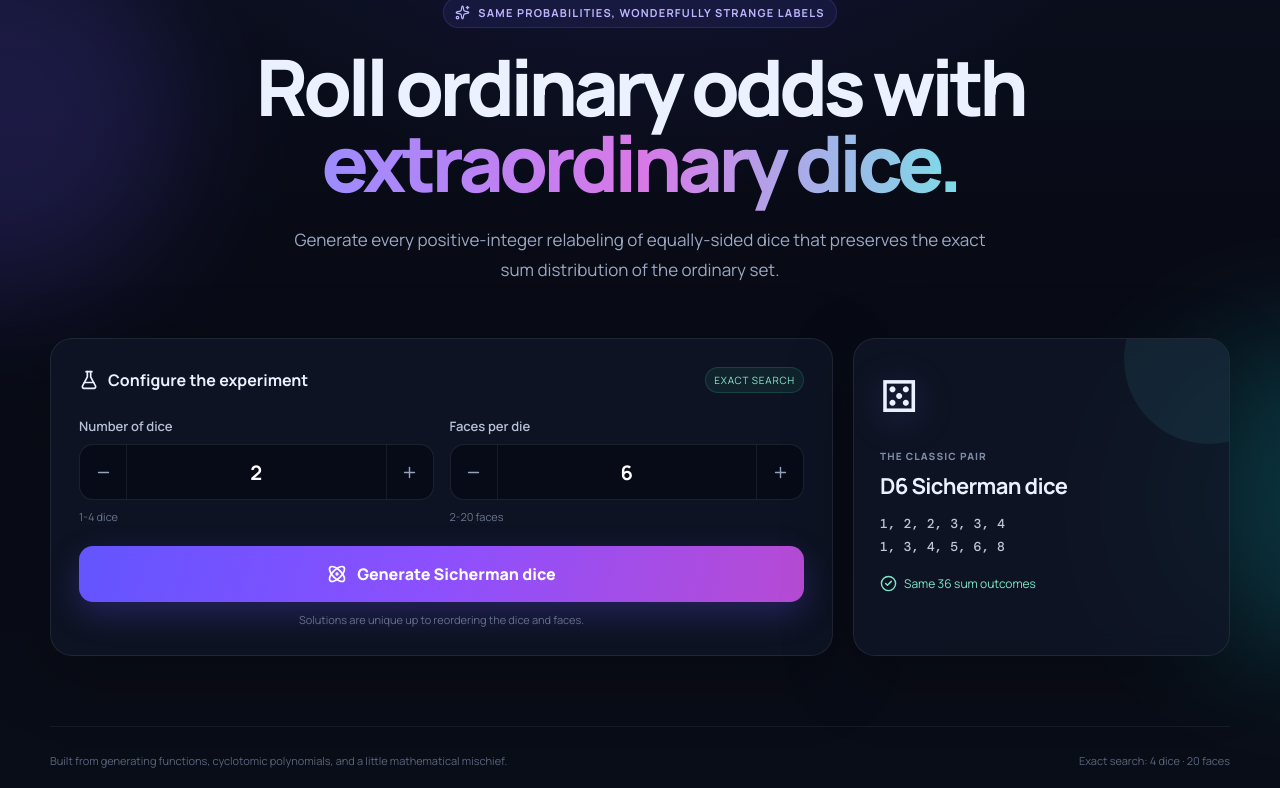
Test: App › includes ordinary dice when the toggle is enabled
The width and height of the screenshot is (1280, 788).
(page scrolled)
Submit the form, box [50, 338, 833, 656]
(page scrolled)
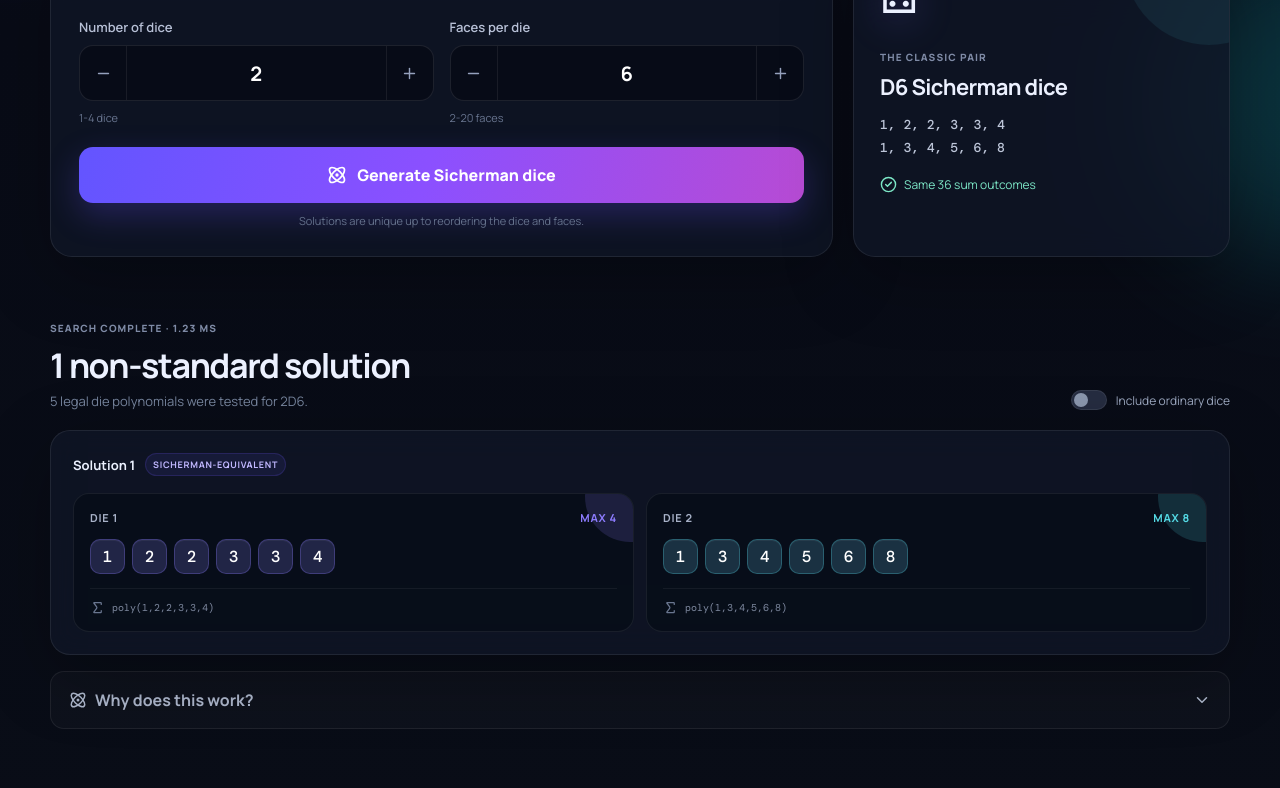
Now the heading "1 non-standard solution" is shown, box [50, 342, 410, 388]
Click the checkbox.
click(1150, 400)  # box [1071, 390, 1230, 410]
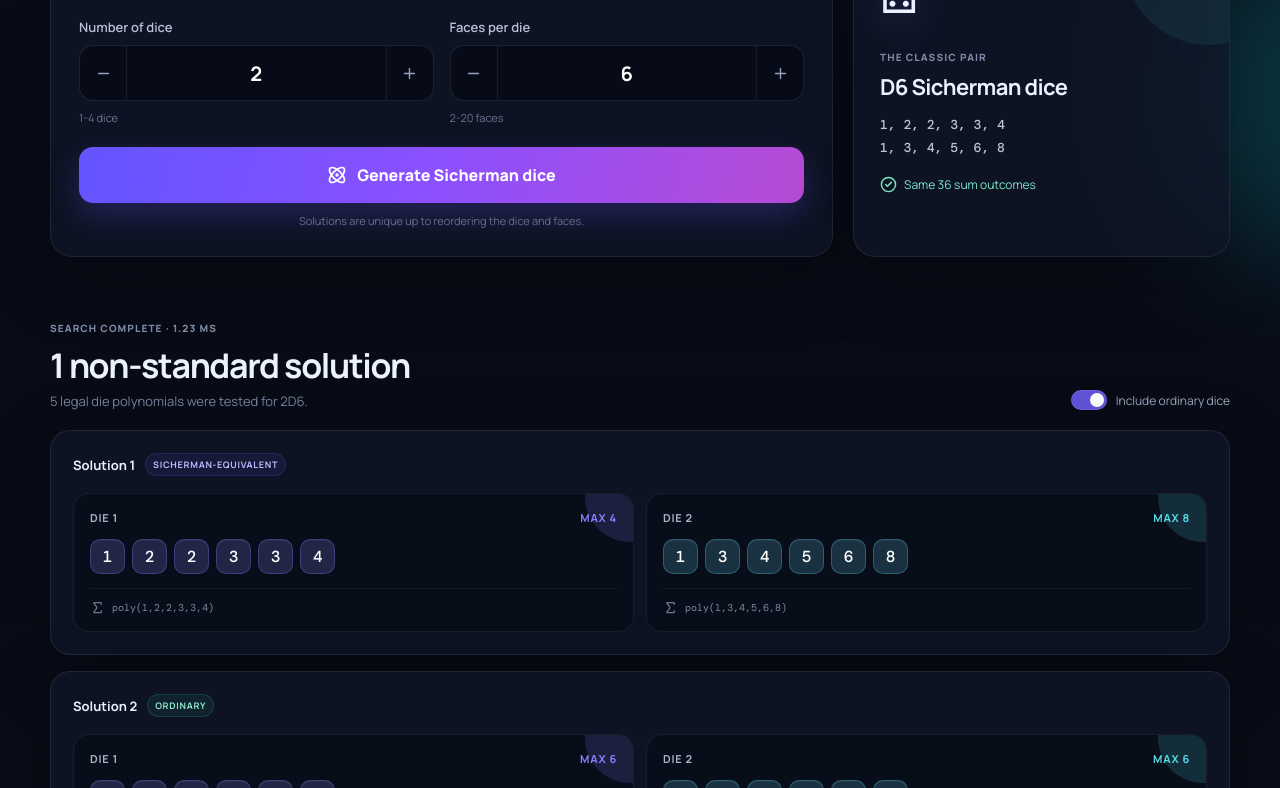
Now the text "ordinary" is shown, box [147, 694, 214, 717]
Now the text "Solution 1" is shown 2 times, box [73, 456, 135, 474]; [73, 697, 137, 715]
